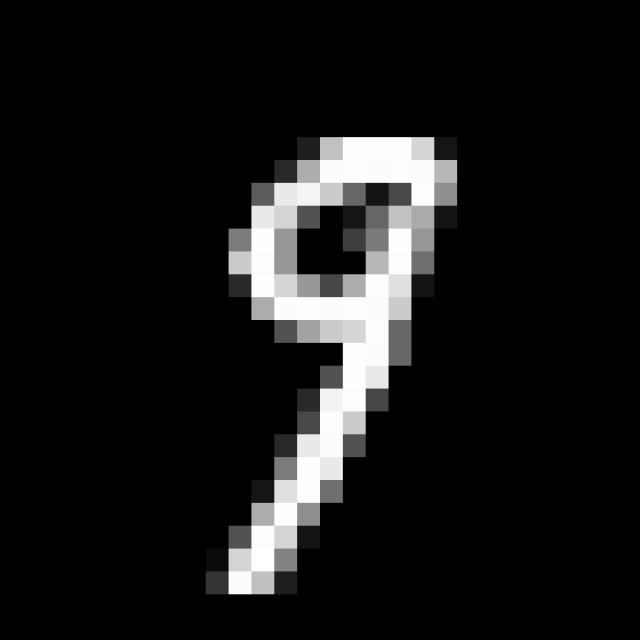nine -9-: (222, 119, 467, 616)
